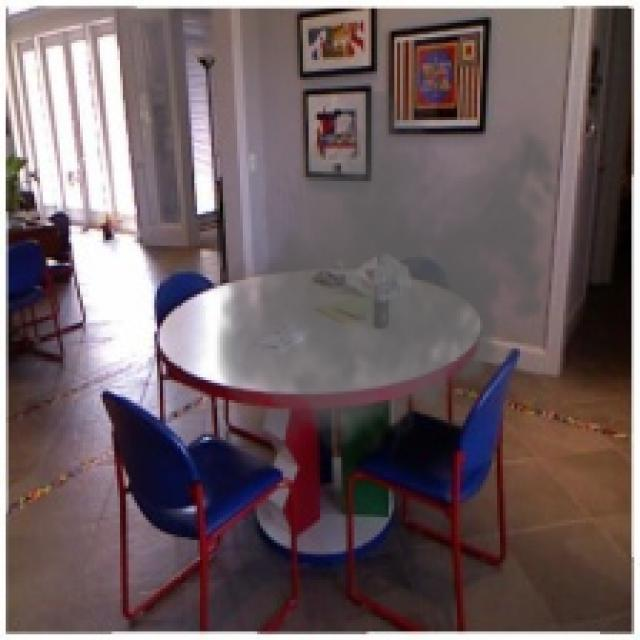Smoke: (208, 91, 568, 466)
